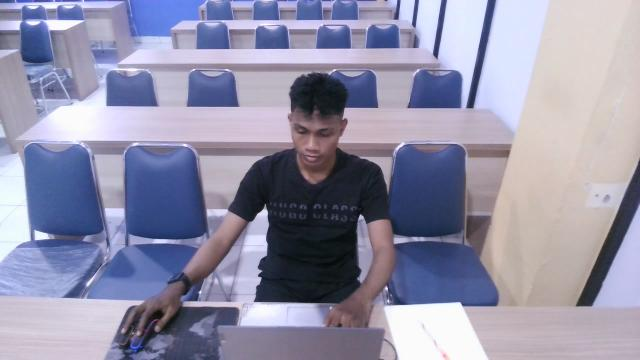Normal_Focus: (177, 50, 438, 360)
